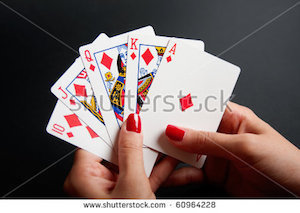AceOfDiamonds: (155, 38, 245, 172)
JackOfDiamonds: (42, 61, 101, 116)
KingOfDiamonds: (123, 30, 169, 137)
QueenOfDiamonds: (78, 37, 129, 127)
TenOfDiamonds: (36, 100, 110, 158)
